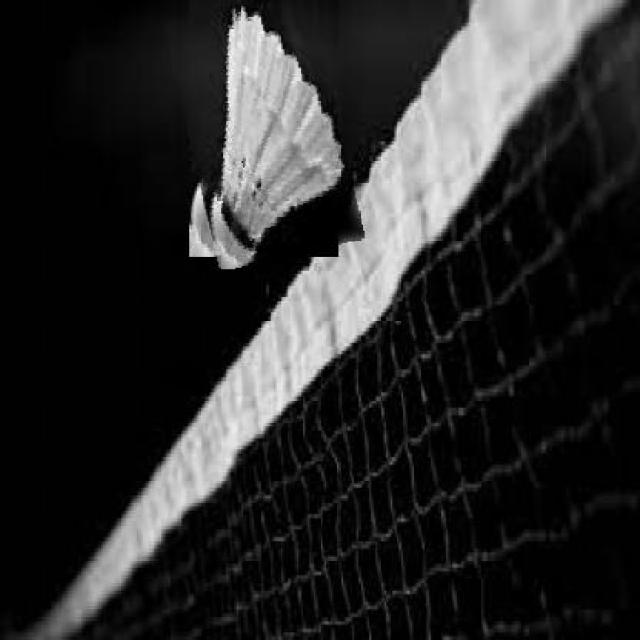Shuttlecock: (175, 0, 351, 263)
